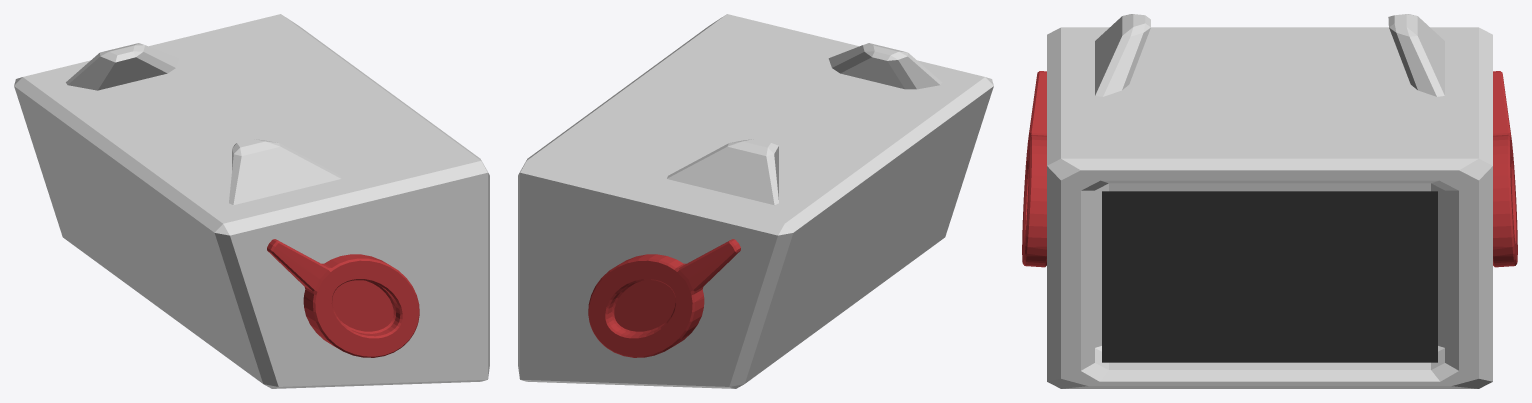
File: Monster_type_C.fbx
3 views of the same model, side by side, from view 1: azimuth 30°, elevation 25°; view 2: azimuth 150°, elevation 25°; view 3: azimuth 270°, elevation 25° (orthographic). The views are drawn at different scales.
Parts seen in each view (by area): view 1: Cube, Cylinder; view 2: Cube, Cylinder; view 3: Cube, Plane_A, Cylinder.
Part boxes in pixels (x1,y1,x2,y2): Cube: [14, 14, 489, 388]; Cylinder: [267, 239, 419, 357]; Cube: [518, 14, 993, 388]; Cylinder: [588, 239, 740, 357]; Cube: [1047, 14, 1492, 388]; Plane_A: [1102, 191, 1437, 362]; Cylinder: [1022, 71, 1517, 267].
Size of the model in its own units: 442 by 398 by 662.
